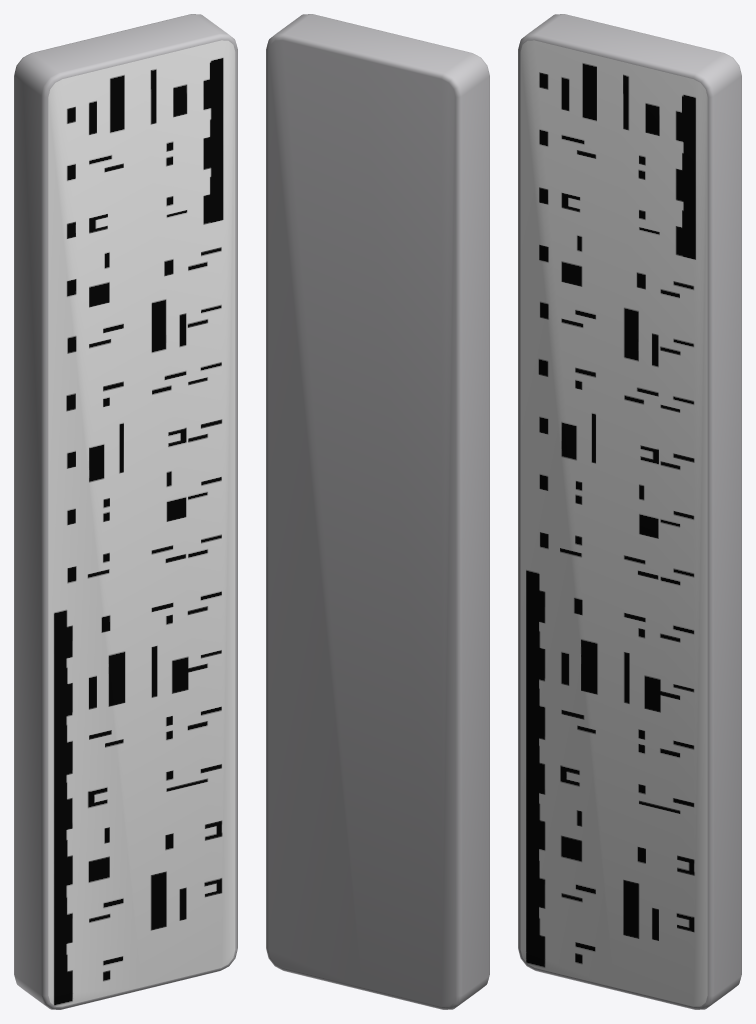
The model's file is CrypticCalendar.fbx.
The picture shows the model from 3 angles, left to right: view 1: azimuth 30°, elevation 25°; view 2: azimuth 150°, elevation 25°; view 3: azimuth 330°, elevation 25°; orthographic projection.
Parts seen in each view (by area): view 1: Cube; view 2: Cube; view 3: Cube.
Boxes of the visible parts, bbox=[...] form: Cube: bbox=[14, 14, 237, 1009]; Cube: bbox=[266, 14, 489, 1009]; Cube: bbox=[518, 14, 741, 1009].
Bounding box in the file's own units: 2 × 9.14 × 0.5594.
Materials: 2 (1 with a texture image).
